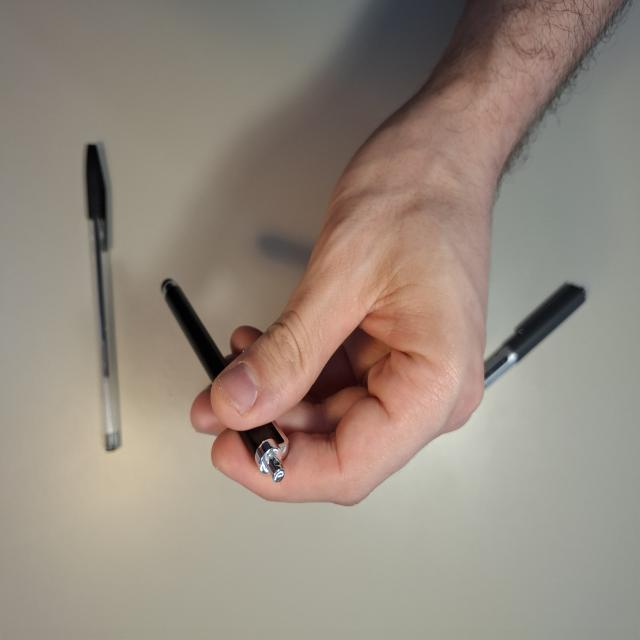glove_off: (188, 73, 506, 509)
